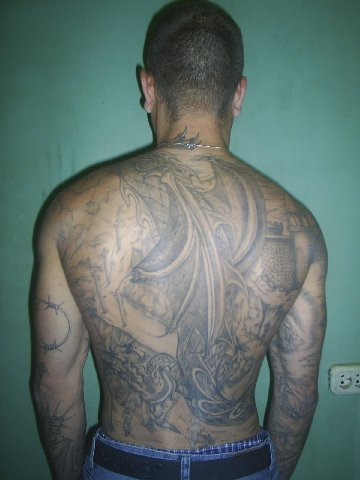tatu6_drakon: (85, 146, 318, 447)
